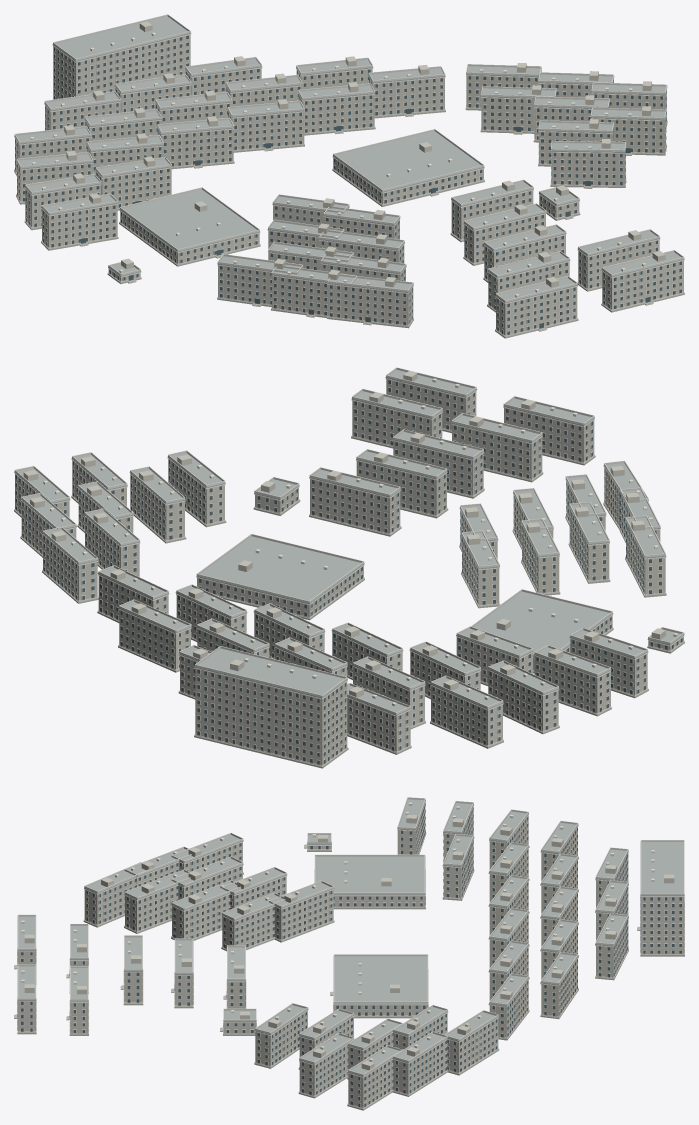
Rendered from shared-03-far.glb.
The picture shows the model from 3 angles, top to bottom: view 1: azimuth 30°, elevation 25°; view 2: azimuth 150°, elevation 25°; view 3: azimuth 270°, elevation 25°; orthographic projection. The views are drawn at different scales.
Visible parts, largest first — view 1: Weathered flat roof details.004, Window frames and coping details.004, Dark blue grey glazing details.004, Pale limestone details.004, Warm ivory plaster details.004, 留学生公寓.001, Walkway stone details.004, 北区宿舍 · 图示楼栋 34.001, 北区宿舍 · 图示楼栋 41.001, 北区宿舍 · 图示楼栋 40.001, 北区宿舍 · 图示楼栋 17.001, 北区宿舍 · 图示楼栋 25.001 (+34 smaller); view 2: Weathered flat roof details.004, Window frames and coping details.004, Dark blue grey glazing details.004, Pale limestone details.004, 留学生公寓.001, Warm ivory plaster details.004, Walkway stone details.004, 北区宿舍 · 图示楼栋 35.001, 北区宿舍 · 图示楼栋 38.001, 北区宿舍 · 图示楼栋 04.001, 北区宿舍 · 图示楼栋 40.001, 北区宿舍 · 图示楼栋 36.001 (+25 smaller); view 3: Weathered flat roof details.004, Window frames and coping details.004, Pale limestone details.004, Dark blue grey glazing details.004, Warm ivory plaster details.004, Walkway stone details.004, 留学生公寓.001, 北区宿舍 · 图示楼栋 26.001, 北区宿舍 · 图示楼栋 31.001, 北区宿舍 · 图示楼栋 19.001, 北区宿舍 · 图示楼栋 33.001, 北区宿舍 · 图示楼栋 24.001 (+25 smaller).
Part boxes in pixels (x1,y1,x2,y2): Weathered flat roof details.004: (14,16,684,303); Window frames and coping details.004: (14,32,684,336); Dark blue grey glazing details.004: (15,35,681,334); Pale limestone details.004: (14,14,684,302); Warm ivory plaster details.004: (64,21,665,287); 留学生公寓.001: (53,34,190,99); Walkway stone details.004: (14,105,684,338); 北区宿舍 · 图示楼栋 34.001: (328,284,413,326); 北区宿舍 · 图示楼栋 41.001: (602,260,683,310); 北区宿舍 · 图示楼栋 40.001: (496,286,577,336); 北区宿舍 · 图示楼栋 17.001: (42,204,117,248); 北区宿舍 · 图示楼栋 25.001: (551,151,625,186); Weathered flat roof details.004: (14,370,684,715); Window frames and coping details.004: (14,378,684,766); Dark blue grey glazing details.004: (15,380,682,764); Pale limestone details.004: (14,367,684,714); 留学生公寓.001: (195,667,347,766); Warm ivory plaster details.004: (23,370,665,697); Walkway stone details.004: (14,429,684,768); 北区宿舍 · 图示楼栋 35.001: (310,478,400,534); 北区宿舍 · 图示楼栋 38.001: (452,424,542,480); 北区宿舍 · 图示楼栋 04.001: (431,685,502,745); 北区宿舍 · 图示楼栋 40.001: (504,407,594,463); 北区宿舍 · 图示楼栋 36.001: (356,460,446,515); Weathered flat roof details.004: (17,799,684,1076); Window frames and coping details.004: (17,801,684,1108); Pale limestone details.004: (17,797,684,1075); Dark blue grey glazing details.004: (17,803,681,1106); Warm ivory plaster details.004: (24,814,674,1070); Walkway stone details.004: (14,833,684,1110); 留学生公寓.001: (641,897,684,953); 北区宿舍 · 图示楼栋 26.001: (274,890,333,940); 北区宿舍 · 图示楼栋 31.001: (172,895,230,939); 北区宿舍 · 图示楼栋 19.001: (393,1040,447,1094); 北区宿舍 · 图示楼栋 33.001: (125,885,178,931); 北区宿舍 · 图示楼栋 24.001: (299,1045,348,1095).
Size of the model in its own units: 291 by 32.14 by 297.
